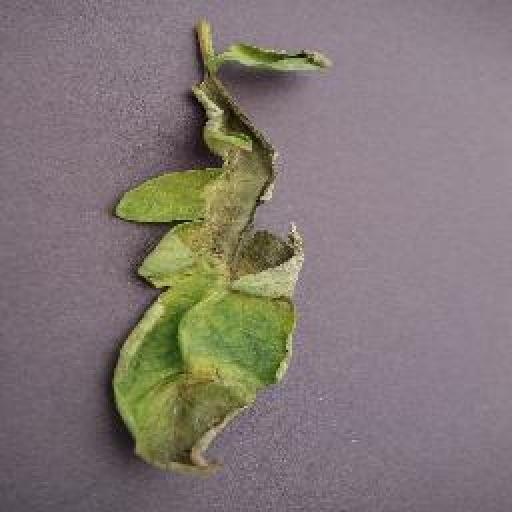disease_tomato: (105, 76, 303, 471), (231, 32, 336, 83)
